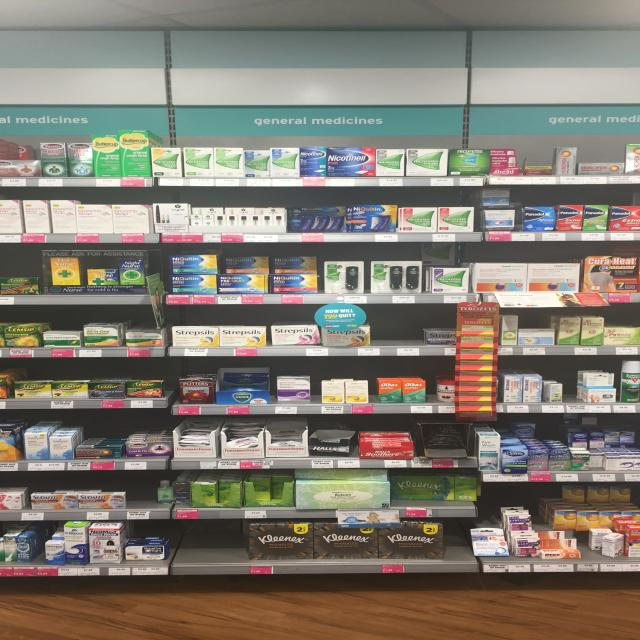void: (173, 524, 240, 578), (375, 310, 419, 357)
